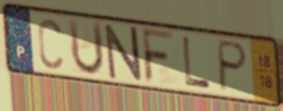C: (36, 16, 64, 71)
F: (140, 26, 177, 87)
L: (181, 34, 212, 91)
N: (103, 23, 144, 83)
P: (217, 38, 250, 94)
U: (66, 17, 106, 78)
